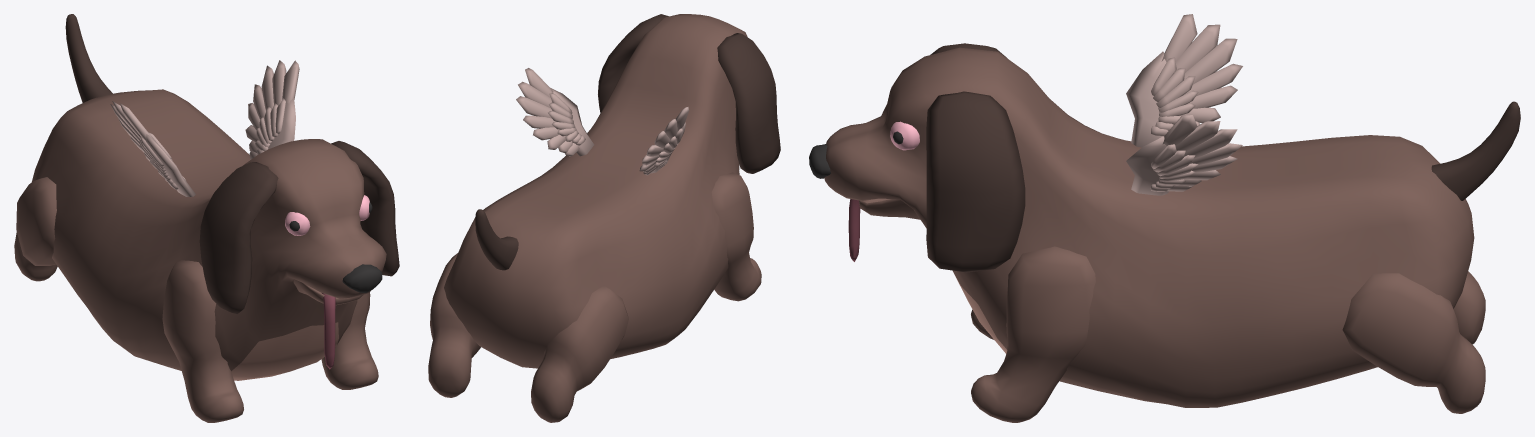
File: Perro.fbx
The picture shows the model from 3 angles, left to right: view 1: azimuth 30°, elevation 25°; view 2: azimuth 150°, elevation 25°; view 3: azimuth 270°, elevation 25°; orthographic projection. The views are drawn at different scales.
Parts seen in each view (by area): view 1: Cuerpo/Cabeza, Patas, Orejas, Alas, Cola, Lengua, Morro, Ojos, Boca; view 2: Cuerpo/Cabeza, Patas, Orejas, Alas, Cola; view 3: Cuerpo/Cabeza, Patas, Orejas, Alas, Cola, Boca, Ojos, Lengua.
Boxes of the visible parts, x1,y1,x2,y2 form: Cuerpo/Cabeza: (32,89,386,380); Patas: (14,177,378,422); Orejas: (199,141,399,313); Alas: (110,60,299,196); Cola: (65,14,112,102); Lengua: (322,293,335,369); Morro: (342,264,382,292); Ojos: (285,195,372,235); Boca: (293,279,362,305); Cuerpo/Cabeza: (444,14,747,368); Patas: (428,172,761,422); Orejas: (598,14,780,173); Alas: (516,68,689,175); Cola: (475,209,518,270); Cuerpo/Cabeza: (824,47,1474,407); Patas: (971,246,1485,422); Orejas: (926,43,1025,272); Alas: (1126,14,1242,195); Cola: (1431,101,1520,200); Boca: (859,198,920,219); Ojos: (890,121,919,150); Lengua: (848,199,860,261).
Size of the model in its own units: 80.38 by 109 by 219.
